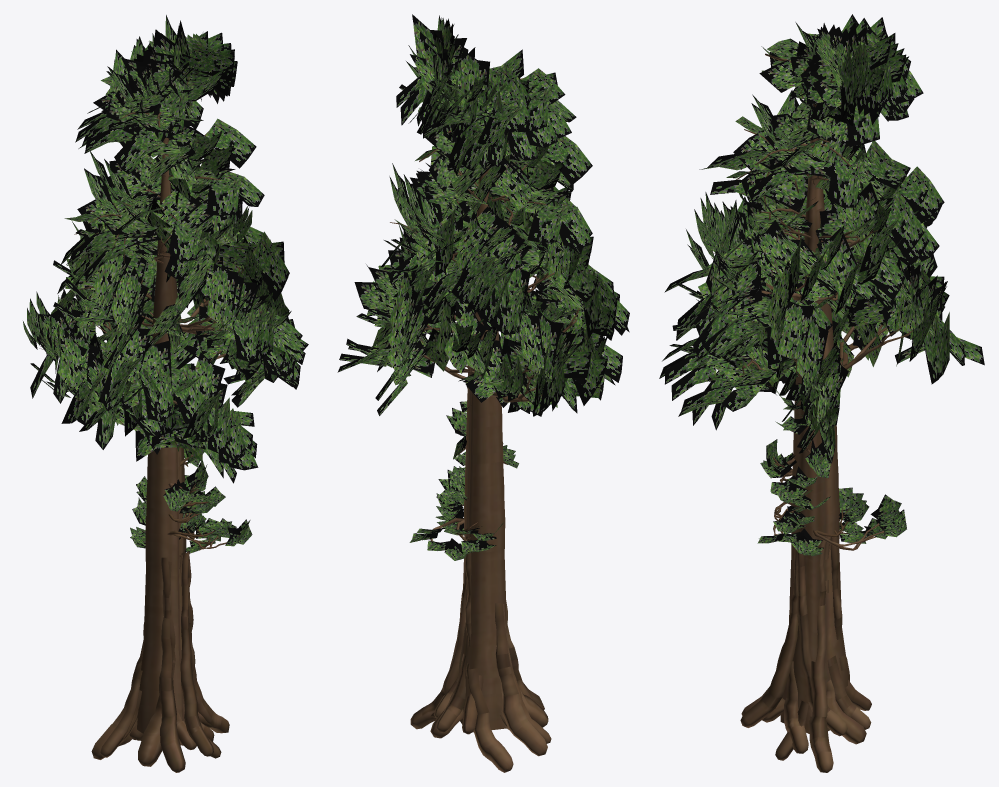
Rendered from parampara-tree-2.glb.
3 renders of one model, left to right at view 1: azimuth 30°, elevation 25°; view 2: azimuth 150°, elevation 25°; view 3: azimuth 270°, elevation 25°, orthographic. The views are drawn at different scales.
Visible parts, largest first — view 1: tree; view 2: tree; view 3: tree.
Boxes of the visible parts, box(x1,y1,x2,y2) form: tree: box(23, 15, 308, 772); tree: box(337, 14, 629, 772); tree: box(659, 14, 984, 772).
Size of the model in its own units: 18.31 by 47.09 by 18.74.
1 material, 1 textured.
